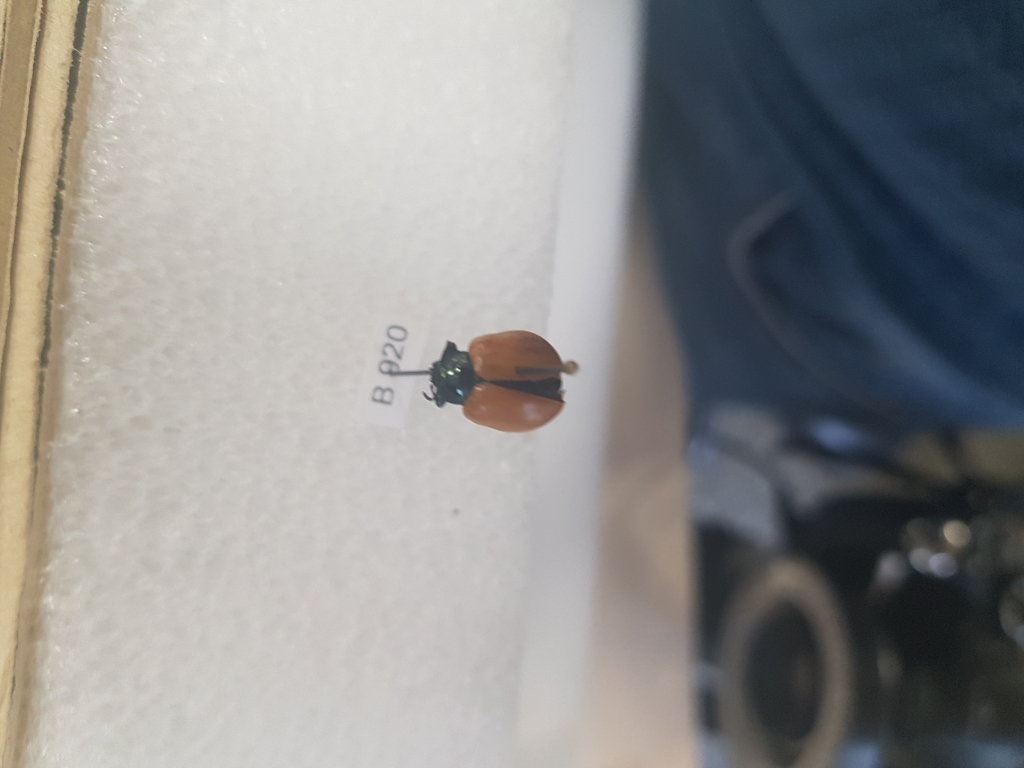Chrysomela_populi: (418, 330, 569, 435)
